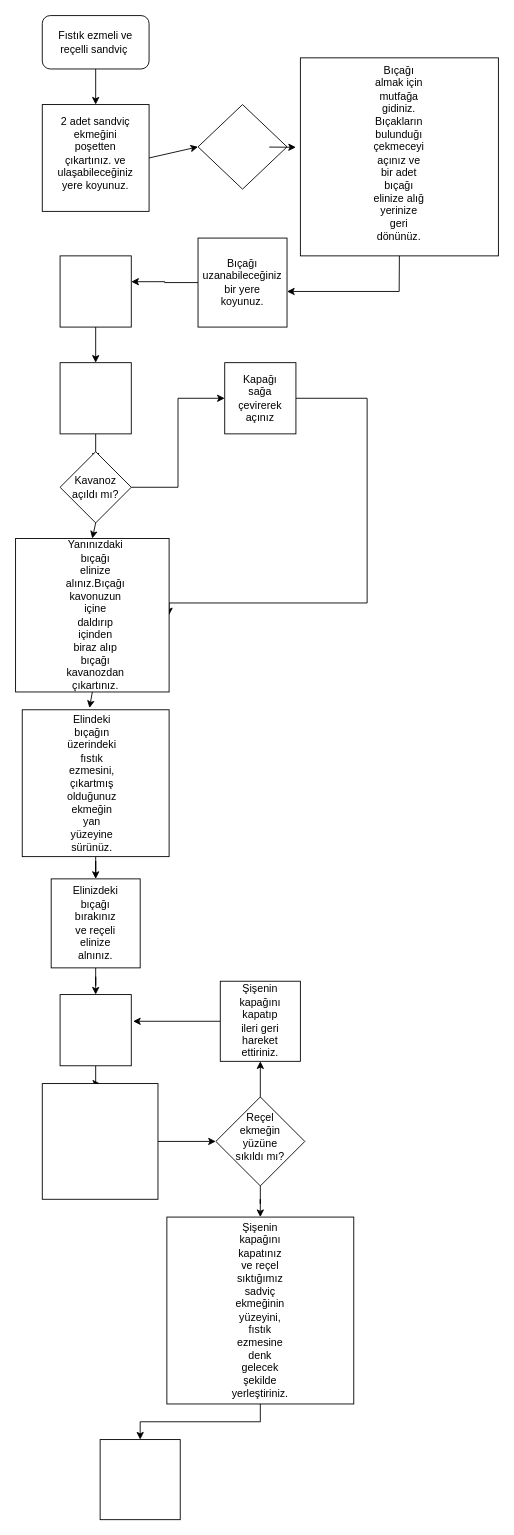
This 514x1535 diagram has some shape labels left out. The box of each missing label's shape, as (x1, y1, x2, y2) in pixels:
Bıçak ulaşabileceğiniz yerde mı ?: (197, 104, 287, 189)
Fıstık ezmesi kavanozunu elinize alınız.: (59, 255, 131, 327)
Kapağını sola çevirerek açınız.: (59, 362, 131, 434)
Reçel şişesi diğer sandviç ekmeğinin yan yüzeyine sıkınız.: (41, 1083, 158, 1199)
Reçel şişesinin kapağını açınız.: (59, 994, 131, 1066)
Sandviçi ekmeği elinize alınız. Afiyet olsun: (99, 1439, 180, 1520)
